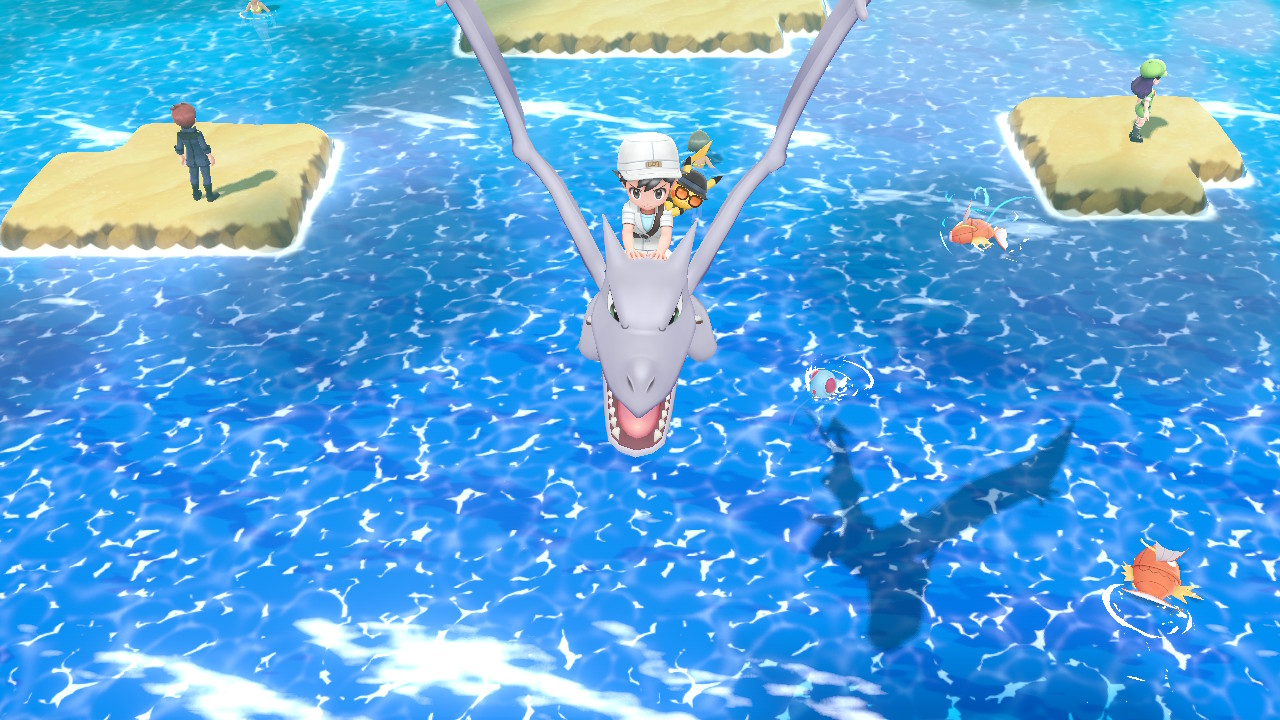Red: (1119, 534, 1200, 619), (941, 205, 1015, 259)
